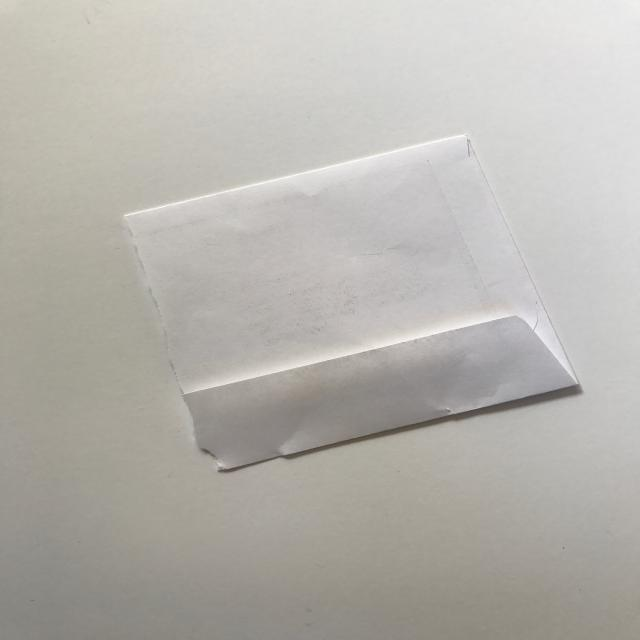paper: (120, 132, 582, 472)
